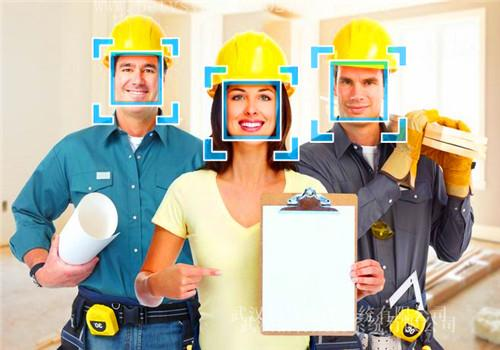helmet: (213, 30, 298, 91), (328, 19, 399, 71), (108, 15, 171, 67)
